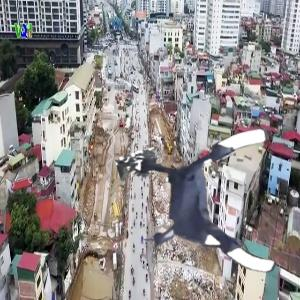drone: (134, 133, 291, 290)
